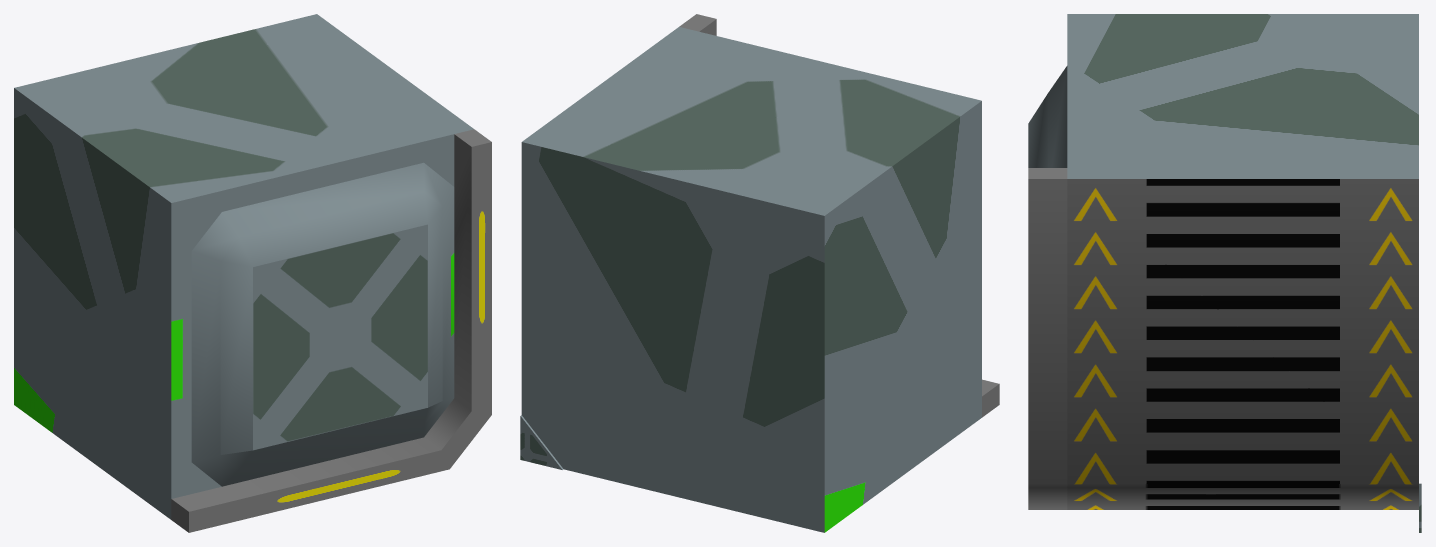
The model's file is LeftDown.fbx.
3 views of the same model, side by side, from view 1: azimuth 30°, elevation 25°; view 2: azimuth 150°, elevation 25°; view 3: azimuth 270°, elevation 25° (orthographic). The views are drawn at different scales.
Visible parts, largest first — view 1: geo1; view 2: geo1; view 3: geo1.
Part boxes in pixels (<box>): geo1: <box>14,14,491,532</box>; geo1: <box>520,14,999,532</box>; geo1: <box>1028,14,1421,532</box>.
Size of the model in its own units: 3 by 3 by 3.02.
